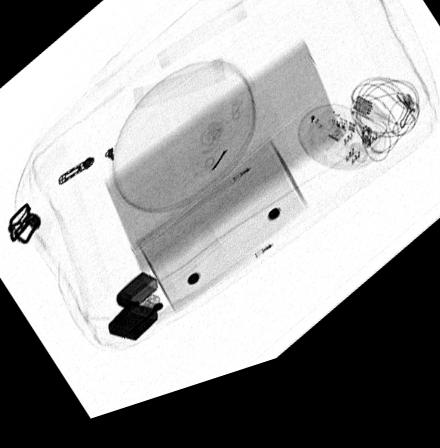Lighter: (106, 280, 162, 350)
